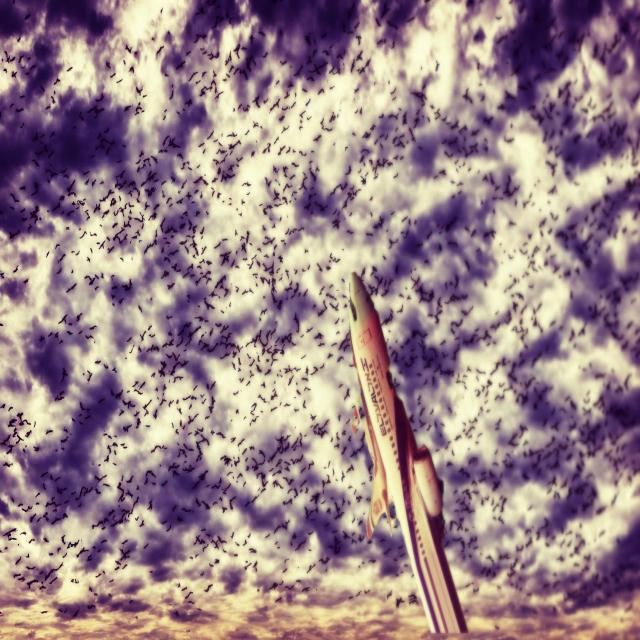airplane: (347, 270, 468, 634)
